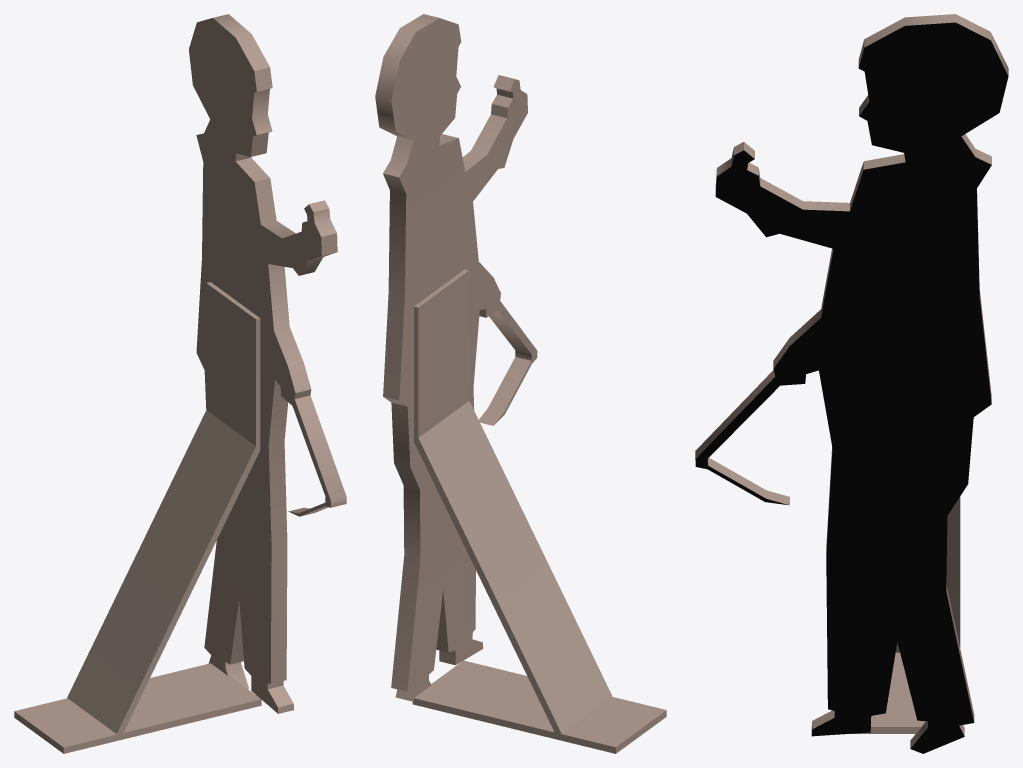
File: Gutt 1.FBX
3 renders of one model, left to right at view 1: azimuth 30°, elevation 25°; view 2: azimuth 150°, elevation 25°; view 3: azimuth 270°, elevation 25°, orthographic. The views are drawn at different scales.
Visible parts, largest first — view 1: Gutt 1; view 2: Gutt 1; view 3: Gutt 1.
Part boxes in pixels (x1,y1,x2,y2): Gutt 1: (14, 14, 346, 753); Gutt 1: (375, 14, 666, 753); Gutt 1: (695, 14, 1008, 753).
Bounding box in the file's own units: 40.25 × 120 × 46.66.
